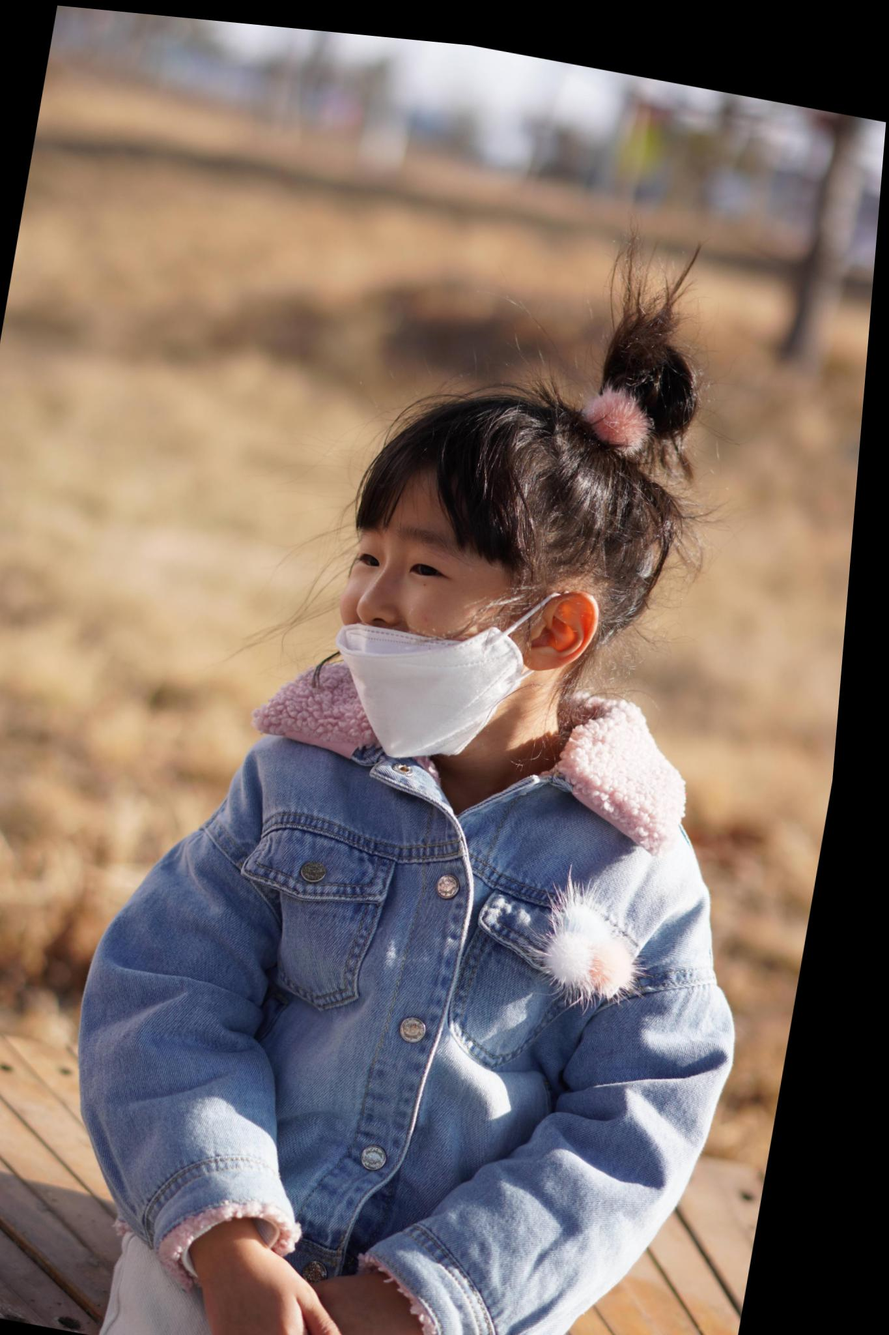WRONG: (325, 477, 543, 764)
